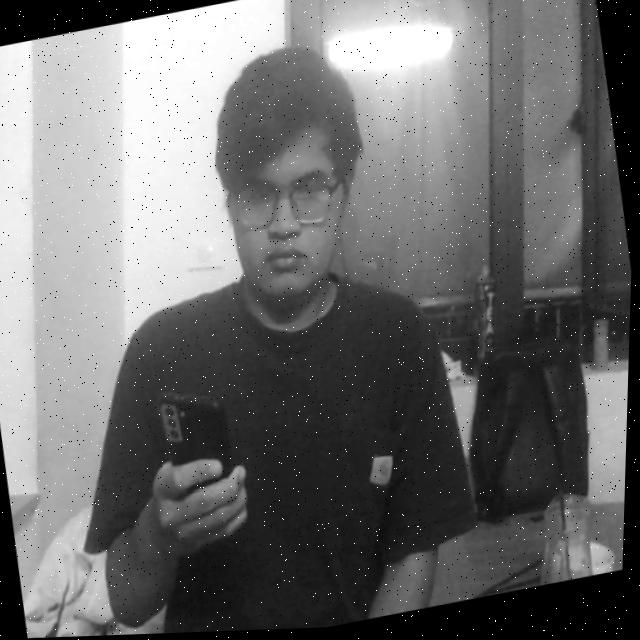phone: (116, 358, 274, 560)
